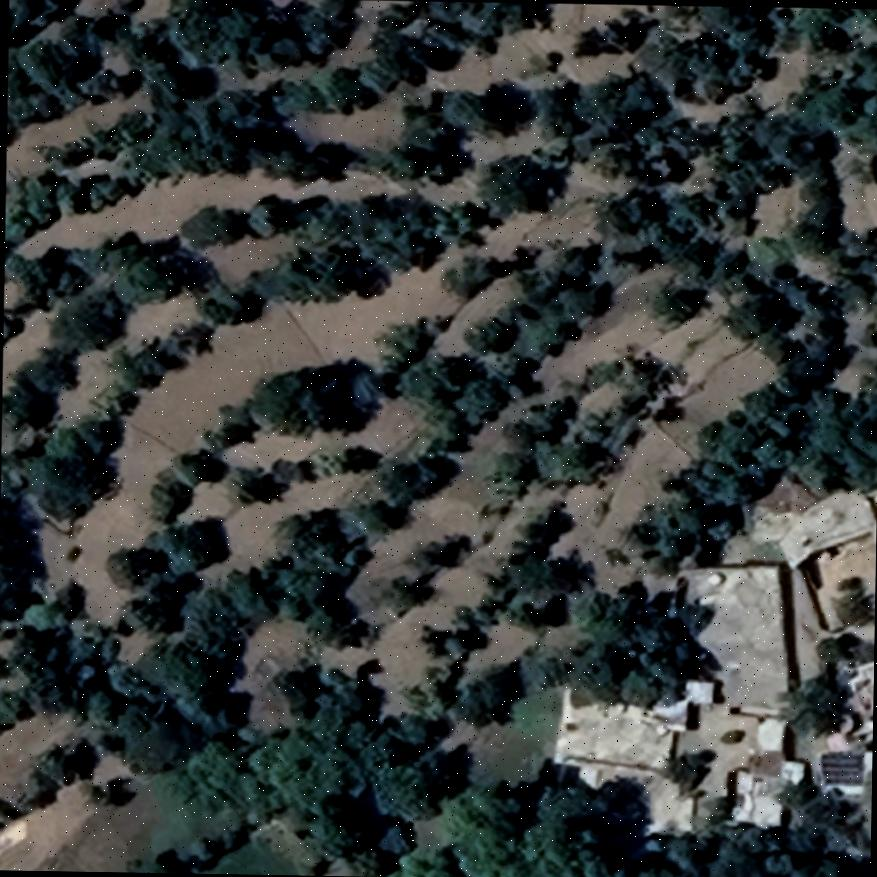Solarpanel: (819, 748, 864, 784)
